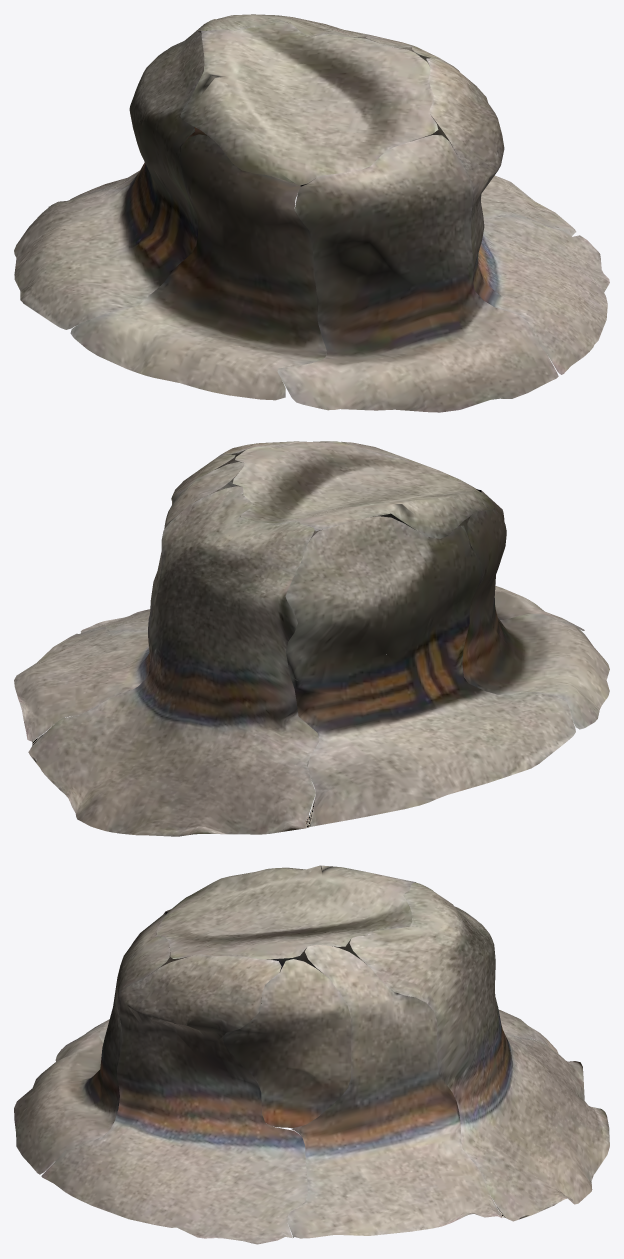
File: wear-bucket.glb
The picture shows the model from 3 angles, top to bottom: view 1: azimuth 30°, elevation 25°; view 2: azimuth 150°, elevation 25°; view 3: azimuth 270°, elevation 25°; orthographic projection. The views are drawn at different scales.
Parts seen in each view (by area): view 1: scan-0; view 2: scan-0; view 3: scan-0.
Boxes of the visible parts, x1=… form: scan-0: x1=14, y1=14, x2=609, y2=412; scan-0: x1=14, y1=441, x2=609, y2=836; scan-0: x1=14, y1=865, x2=609, y2=1244.
Bounding box in the file's own units: 0.3038 × 0.1513 × 0.3255.
Materials: 1 (1 with a texture image).
